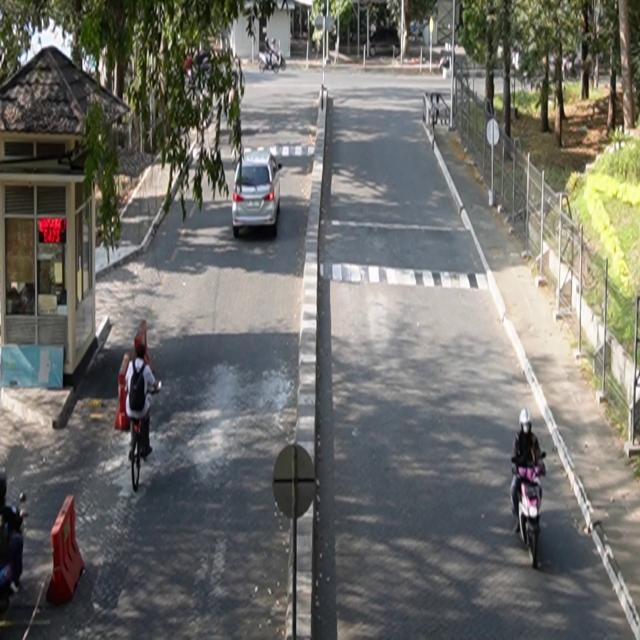car: (233, 148, 283, 239)
